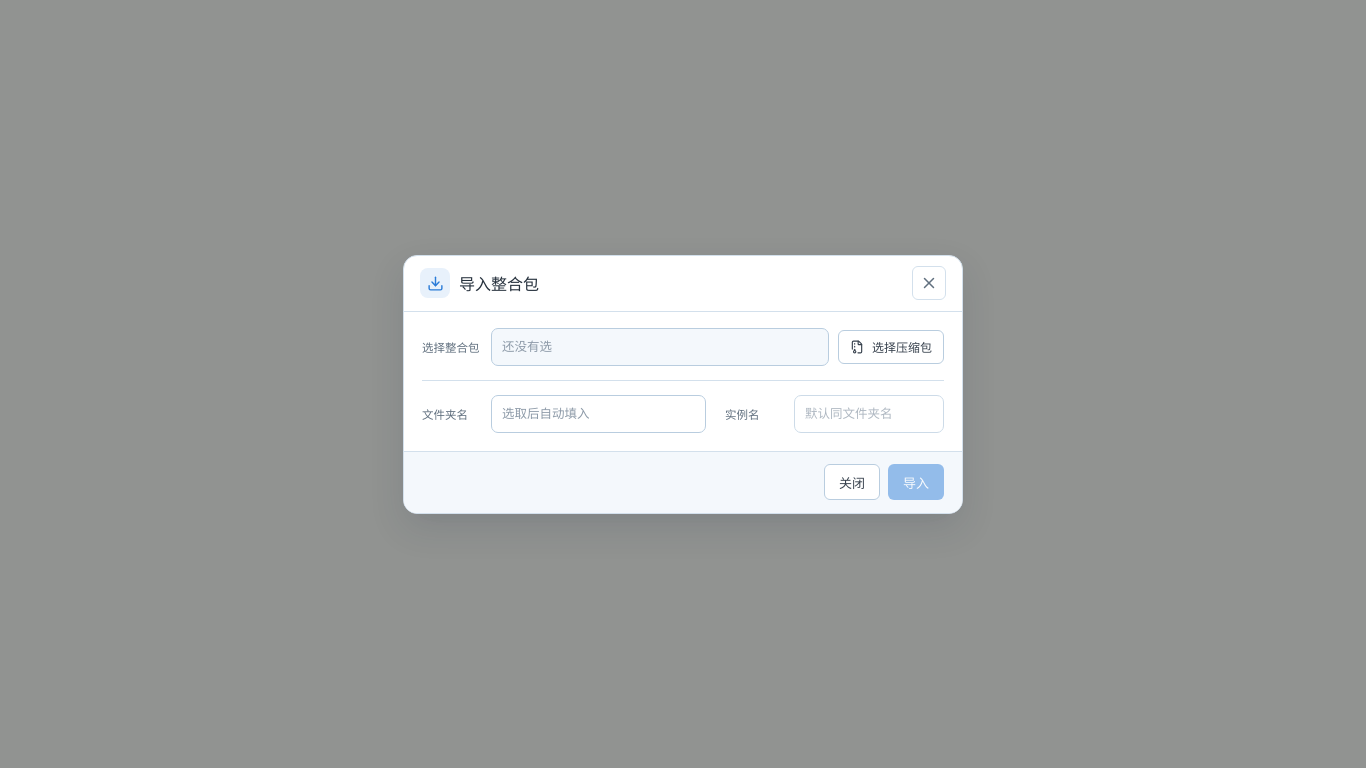
Test: 导入整合包弹窗 › 路径在「选择压缩包」左边，整条路径在只读输入框里
Click the button with class "import-pick".
click(891, 346)  # box [838,330,944,364]
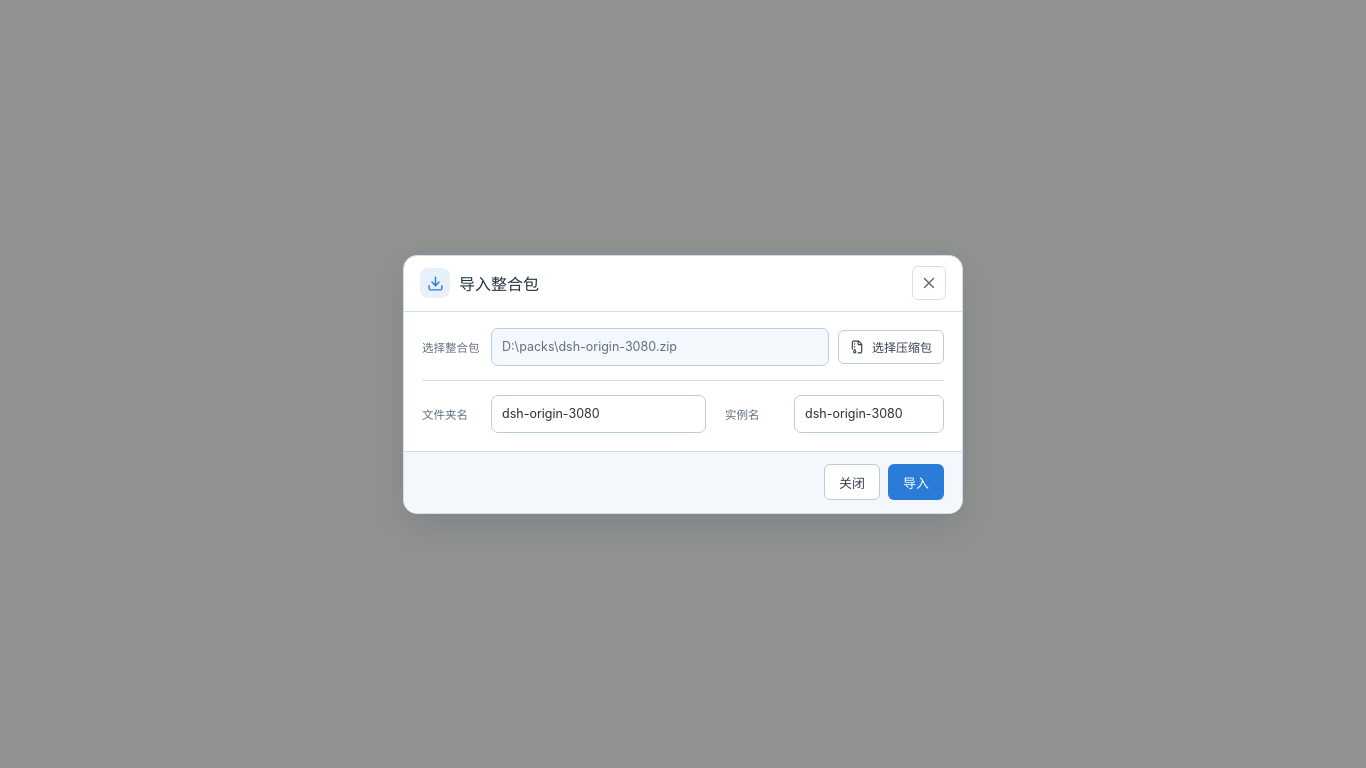
expect the field with class "import-path" holds "D:\\packs\\dsh-origin-3080.zip": met, box [491,328,829,366]
